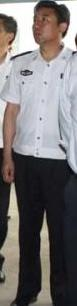boots: (10, 294, 37, 305), (0, 264, 10, 281)
